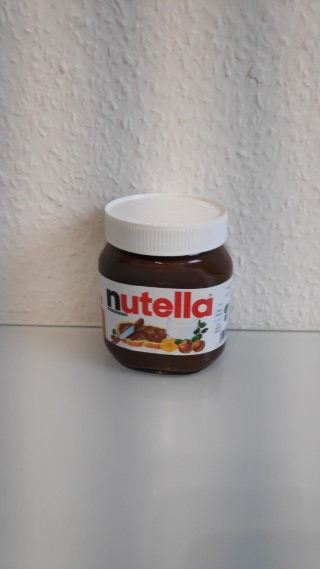nutella: (96, 190, 235, 379)
